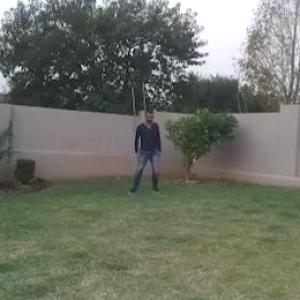follow: (131, 100, 162, 198)
